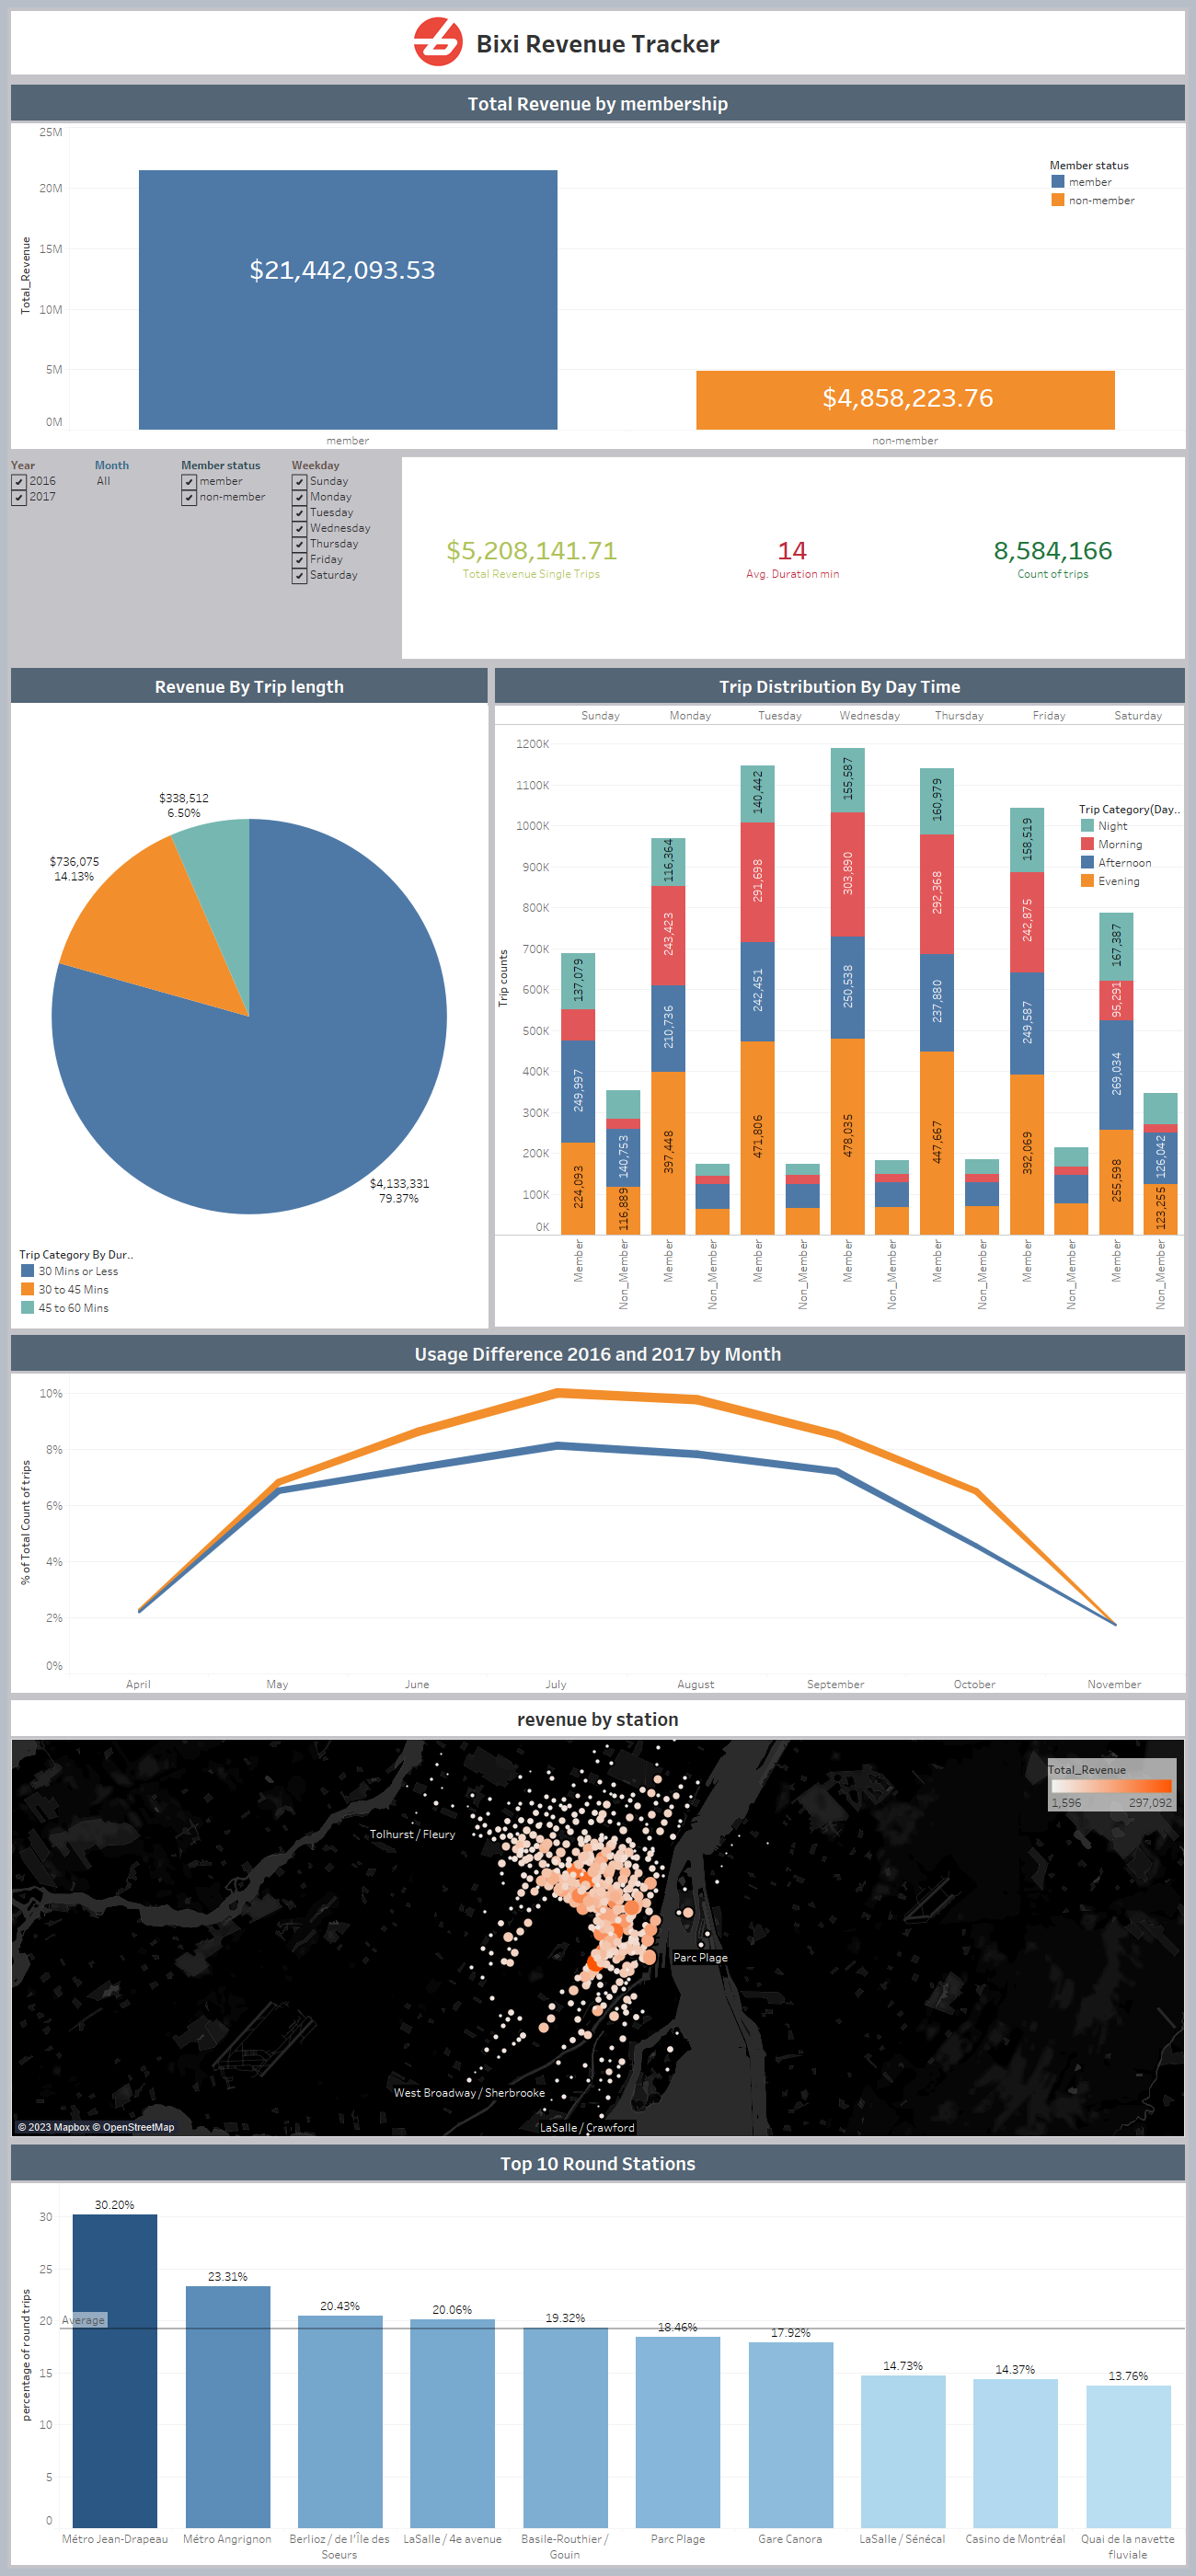

This screenshot's page, from the dashboard's own definition file:
{"tool":"tableau","page":{"name":"BIXI DashBoard","canvas":[1300,2800],"ordinal":0},"visuals":[{"type":"title","box":[8,8,1284,80]},{"type":"image","param":"D:/data_science_projects/sql_dashboard/ch1/bixi_deliverable/bixi_git/logo.PNG","box":[444,13,65,61]},{"type":"image","param":"C:/Users/miru1/OneDrive/桌面/DA study/brainstation/ch1/bixi/bixi_for_BI/logo2.jpg","box":[405,56,157,68.4]},{"type":"worksheet","title":"Total Revenue by membership","mark":"Automatic","rows":["Calculation_1150951247778037770"],"cols":["Calculation_1150951247774498824"],"box":[8,88,1284,404.4]},{"type":"legend","title":"Total Revenue by membership","param":"[federated.0ef9p3x0xp4tz51byejor14u7pzn].[none:Calculation_1150951247774498824:n","box":[1140,169,140,77]},{"type":"filter","title":"usage_diff_year_month","param":"[federated.0ef9p3x0xp4tz51byejor14u7pzn].[yr:start_date:ok]","box":[8,492.4,91,229.1]},{"type":"filter","title":"usage_diff_year_month","param":"[federated.0ef9p3x0xp4tz51byejor14u7pzn].[mn:end_date:ok]","box":[99,492.4,94,229.1]},{"type":"filter","title":"Total Revenue by membership","param":"[federated.0ef9p3x0xp4tz51byejor14u7pzn].[none:Calculation_1150951247774498824:n","box":[193,492.4,120,229.1]},{"type":"filter","title":"Trip Distribution By Day Time ","param":"[federated.0ef9p3x0xp4tz51byejor14u7pzn].[wd:start_date:ok]","box":[313,492.4,120,229.1]},{"type":"worksheet","title":"Total revenue ","mark":"Automatic","box":[433,492.4,859,229.1]},{"type":"worksheet","title":"Total Revenue By Trip length model and Relative Percentage of Revenue from Single Trips","mark":"Pie","box":[8,721.5,526,725.5]},{"type":"worksheet","title":"Trip Distribution By Day Time ","mark":"Bar","cols":["start_date"],"box":[534,721.5,758,725.5]},{"type":"legend","title":"Trip Distribution By Day Time ","param":"[federated.0ef9p3x0xp4tz51byejor14u7pzn].[none:Calculation_747879047863382036:nk","box":[1172,869.3,111,130.7]},{"type":"legend","title":"Total Revenue By Trip length model and Relative Percentage of Revenue from Single Trips","param":"[federated.0ef9p3x0xp4tz51byejor14u7pzn].[none:Calculation_747879047550087186:nk","box":[20,1353.3,129,196]},{"type":"worksheet","title":"usage_diff_year_month","mark":"Automatic","rows":["trips_32747F16F39248069AFC499176C17410"],"cols":["start_date"],"box":[8,1447,1284,397]},{"type":"worksheet","title":"revenue by station","mark":"Automatic","rows":["latitude"],"cols":["longitude"],"box":[8,1844,1284,482.7]},{"type":"legend","title":"revenue by station","param":"[federated.0ef9p3x0xp4tz51byejor14u7pzn].[usr:Calculation_1150951247778037770:qk","box":[1139,1910.7,140,85.1]},{"type":"worksheet","title":"round trips","mark":"Automatic","rows":["Calculation_3395714152756035597"],"cols":["name"],"box":[8,2326.7,1284,465.2]}]}

Visuals, with their boxes in screenshot pixels (x1, y1, x2, y2), scaled from the page's 1300x2800 canvas onto the 1196x2576 screenshot:
title: BBox(7, 7, 1189, 81)
image: BBox(408, 12, 468, 68)
image: BBox(373, 52, 517, 114)
"Total Revenue by membership" worksheet: BBox(7, 81, 1189, 453)
"Total Revenue by membership" legend: BBox(1049, 155, 1178, 226)
"usage_diff_year_month" filter: BBox(7, 453, 91, 664)
"usage_diff_year_month" filter: BBox(91, 453, 178, 664)
"Total Revenue by membership" filter: BBox(178, 453, 288, 664)
"Trip Distribution By Day Time " filter: BBox(288, 453, 398, 664)
"Total revenue " worksheet: BBox(398, 453, 1189, 664)
"Total Revenue By Trip length model and Relative Percentage of Revenue from Single Trips" worksheet (Pie marks): BBox(7, 664, 491, 1331)
"Trip Distribution By Day Time " worksheet (Bar marks): BBox(491, 664, 1189, 1331)
"Trip Distribution By Day Time " legend: BBox(1078, 799, 1180, 920)
"Total Revenue By Trip length model and Relative Percentage of Revenue from Single Trips" legend: BBox(18, 1245, 137, 1425)
"usage_diff_year_month" worksheet: BBox(7, 1331, 1189, 1696)
"revenue by station" worksheet: BBox(7, 1696, 1189, 2141)
"revenue by station" legend: BBox(1048, 1758, 1177, 1836)
"round trips" worksheet: BBox(7, 2141, 1189, 2569)
